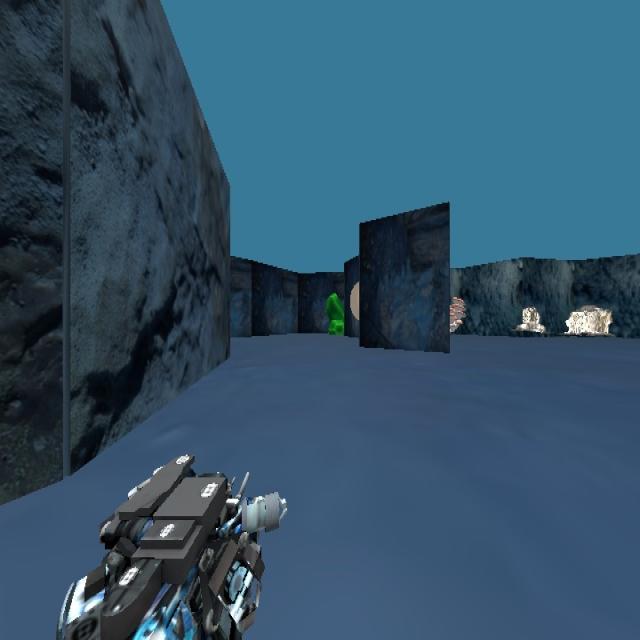Circle: (350, 271, 364, 335)
Diamon: (324, 290, 345, 334)
Ice: (560, 298, 632, 353), (519, 302, 547, 344)
Mushroom: (433, 278, 481, 347)
